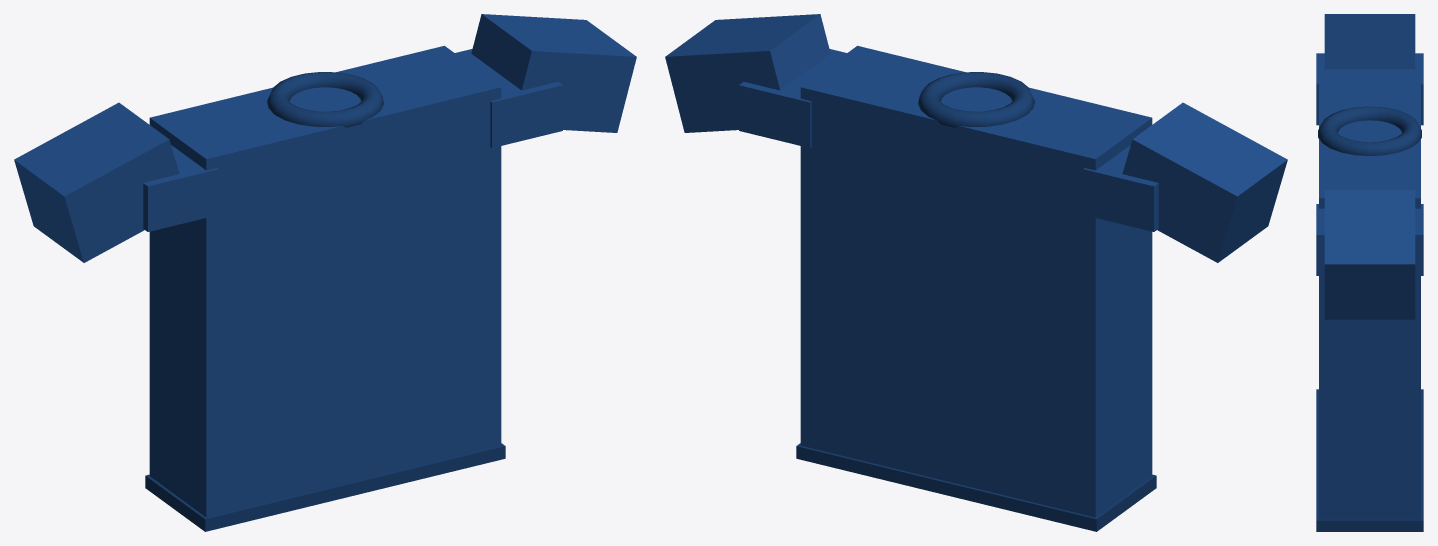
File: oxford_shirt.glb
3 views of the same model, side by side, from view 1: azimuth 30°, elevation 25°; view 2: azimuth 150°, elevation 25°; view 3: azimuth 270°, elevation 25° (orthographic). The views are drawn at different scales.
Size of the model in its own units: 1.05 by 0.6951 by 0.19.
